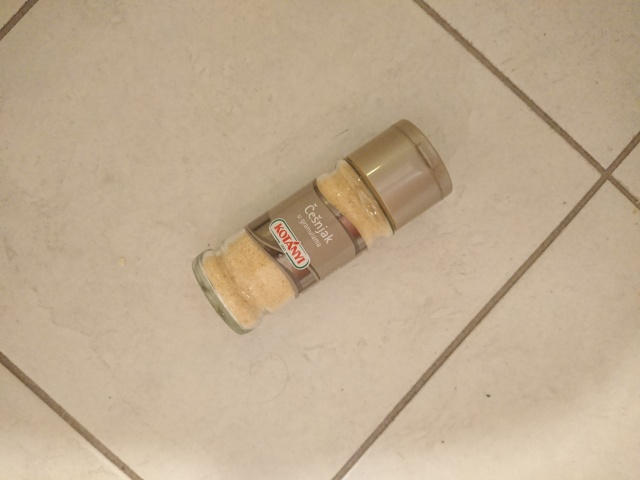Kotanyi Garlic Granules 70g: (191, 116, 456, 338)
